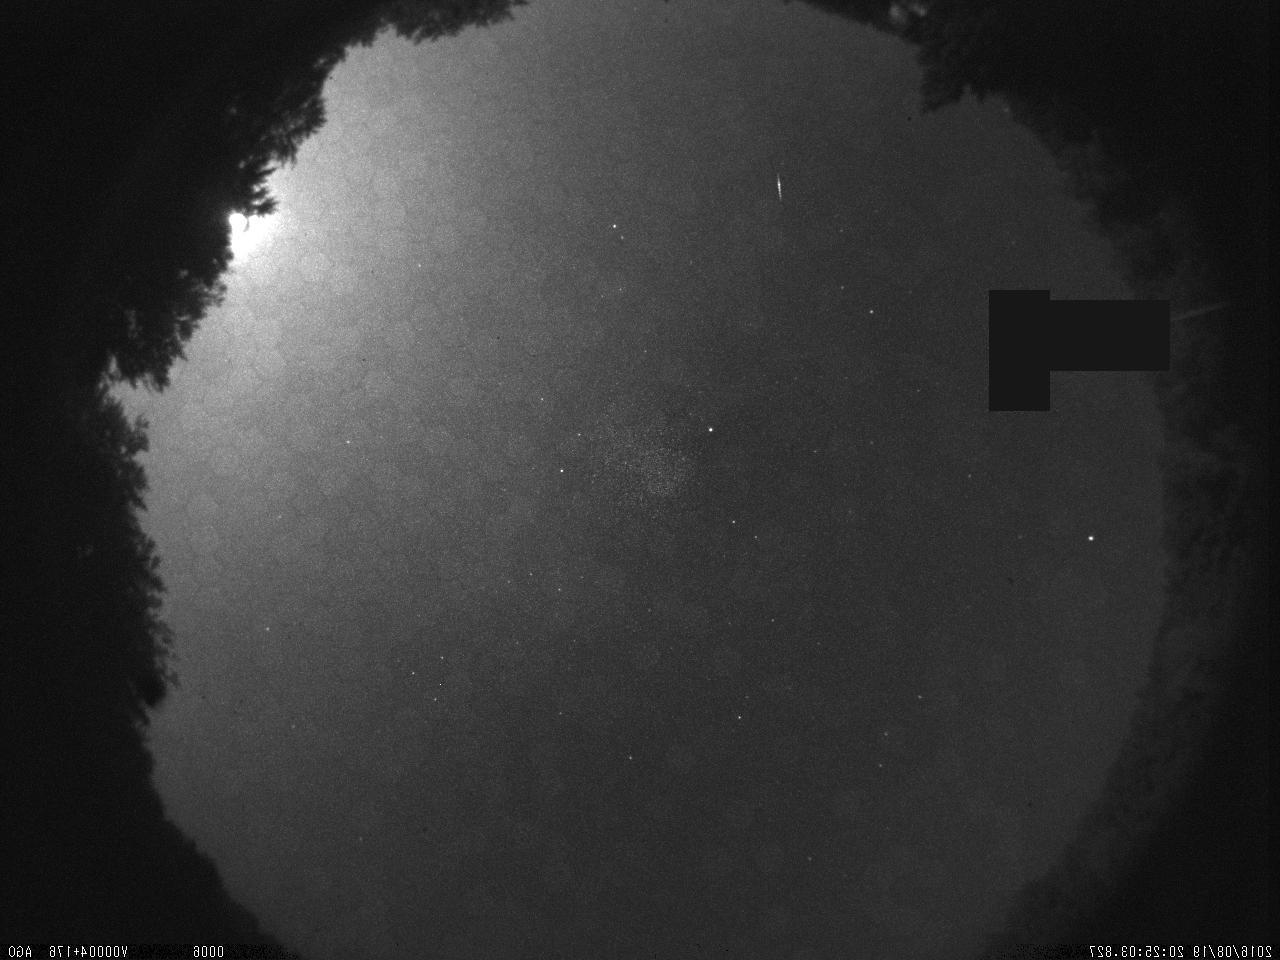meteor: (769, 168, 790, 210)
